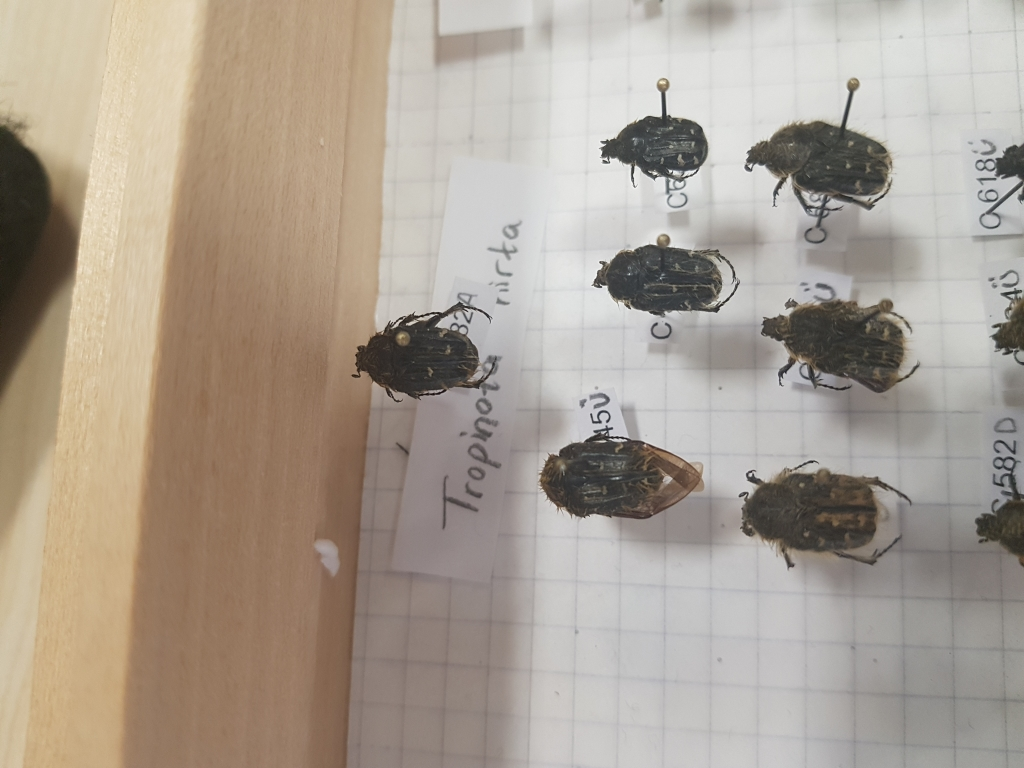Tropinota_hirta: (748, 287, 937, 396), (742, 113, 905, 215)
